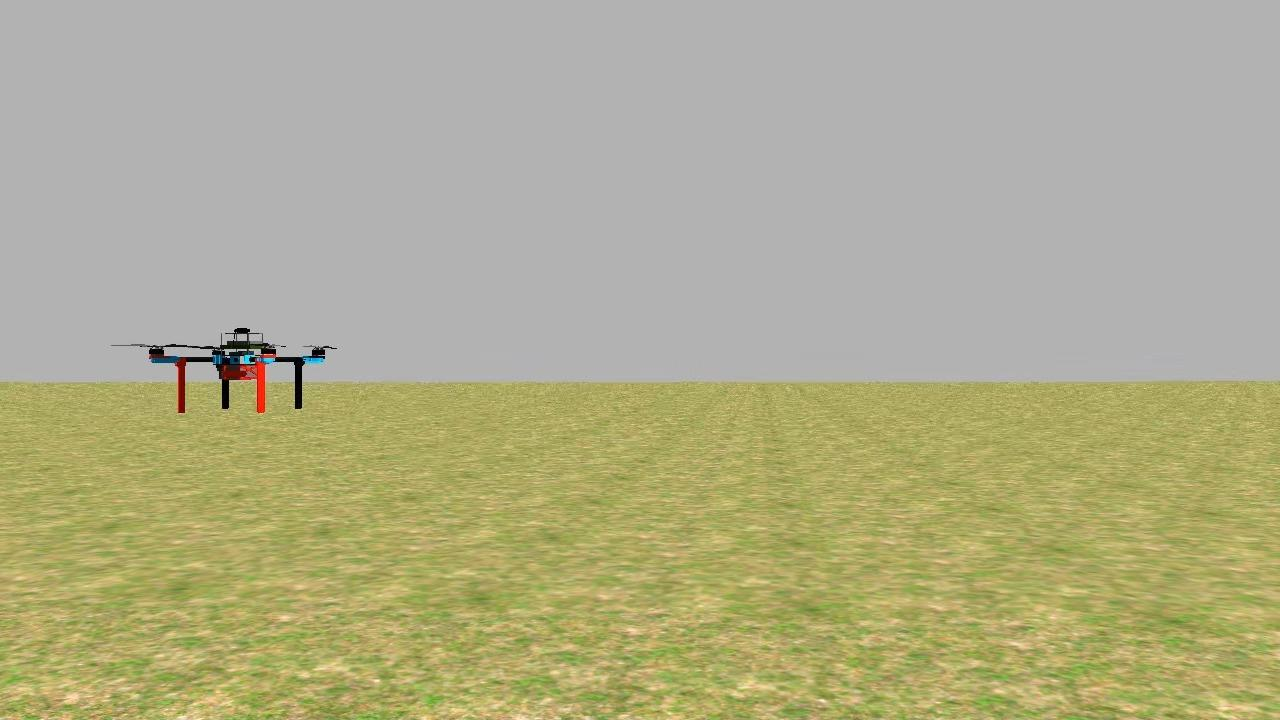UAV: (144, 305, 332, 434)
